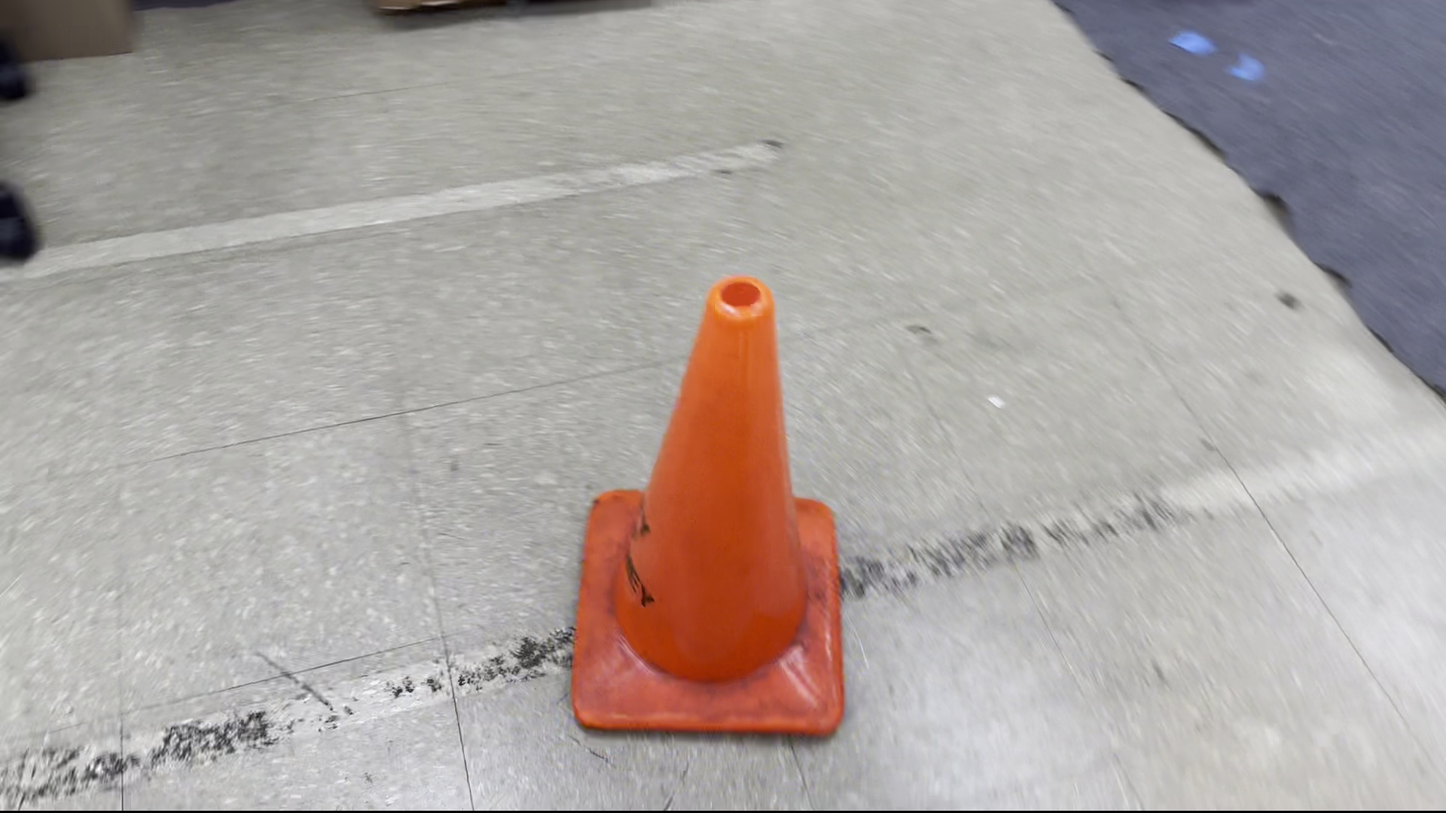traffic_cone: (570, 274, 845, 737)
